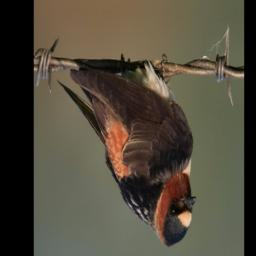Swallow: (56, 53, 197, 250)
